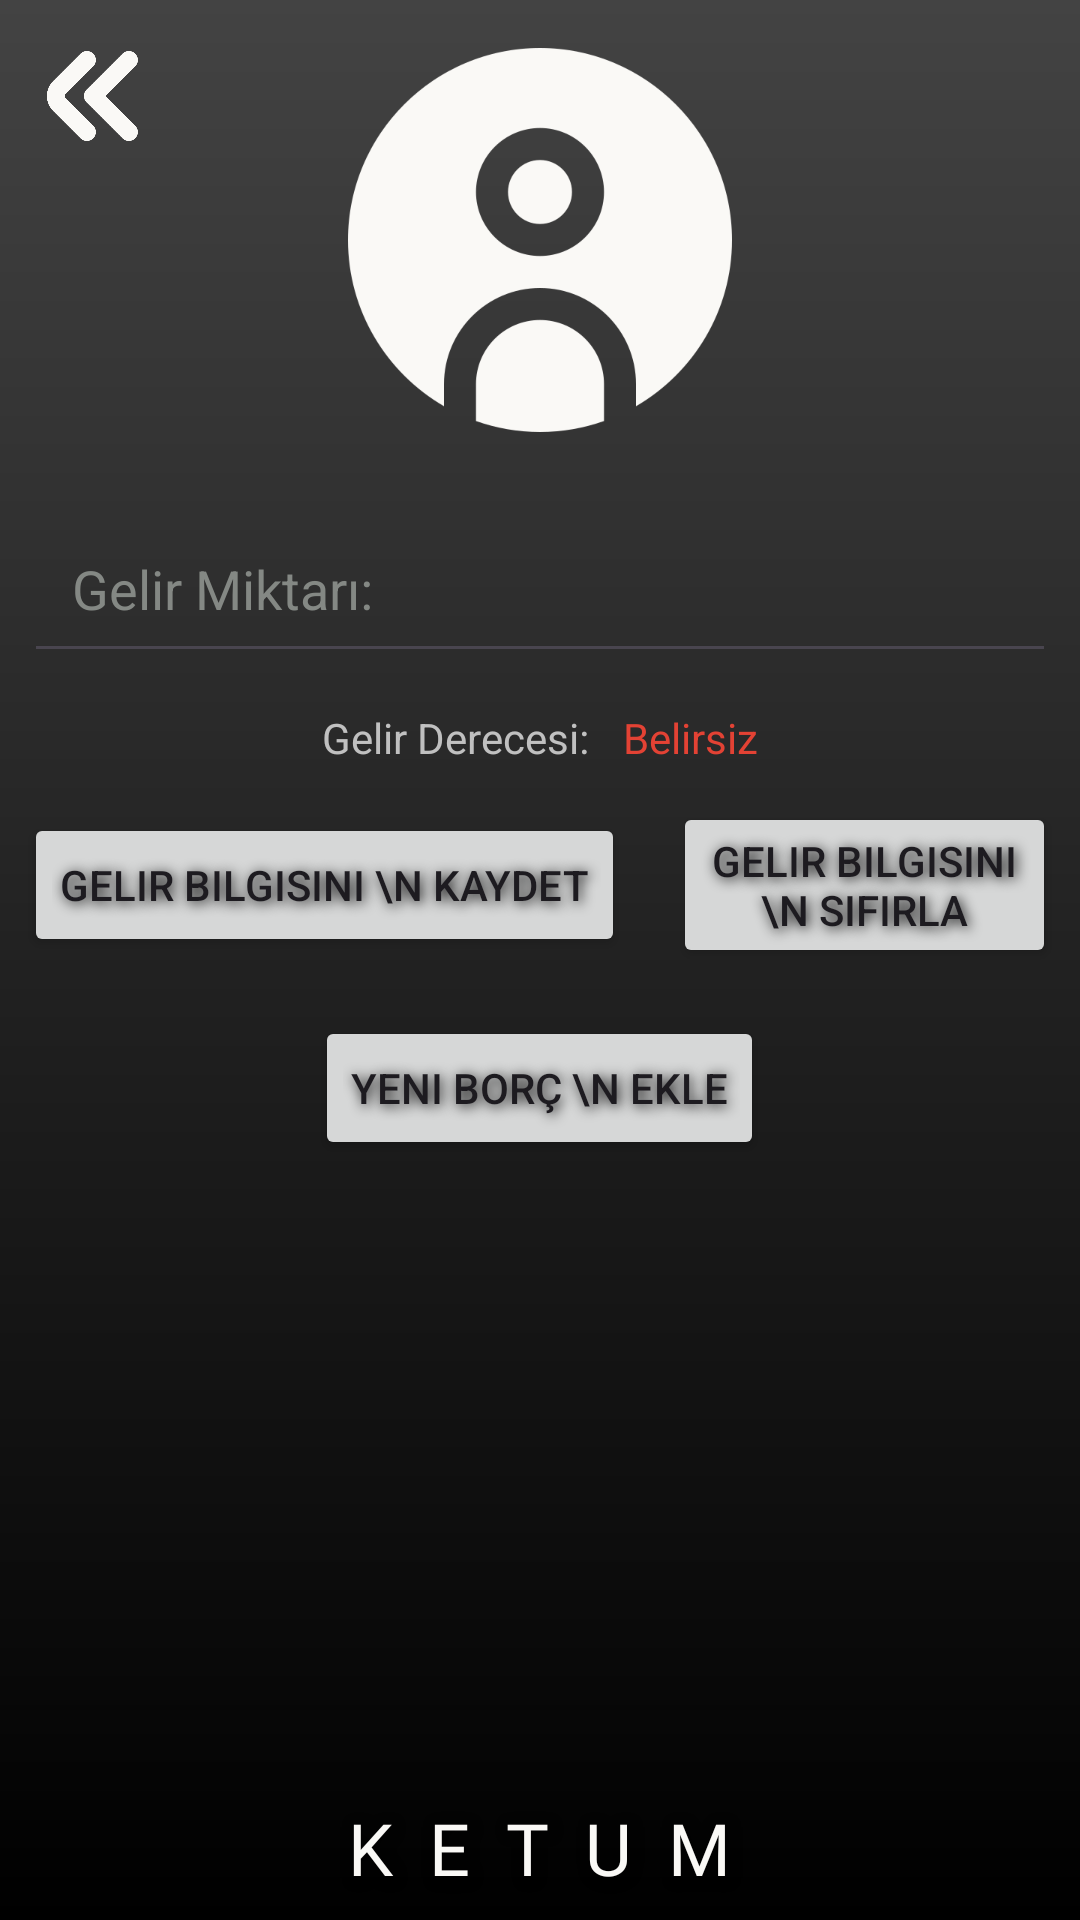

Screen size 1080px×1920px. Icon name, then its box in pixels as bbox=(x1, y1, x2, y2):
back: bbox=(47, 51, 138, 141)
